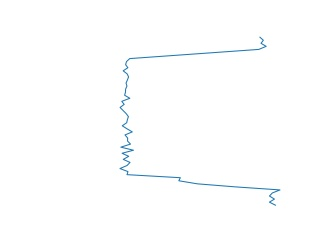distributaryChannelFill: (115, 35, 285, 211)
